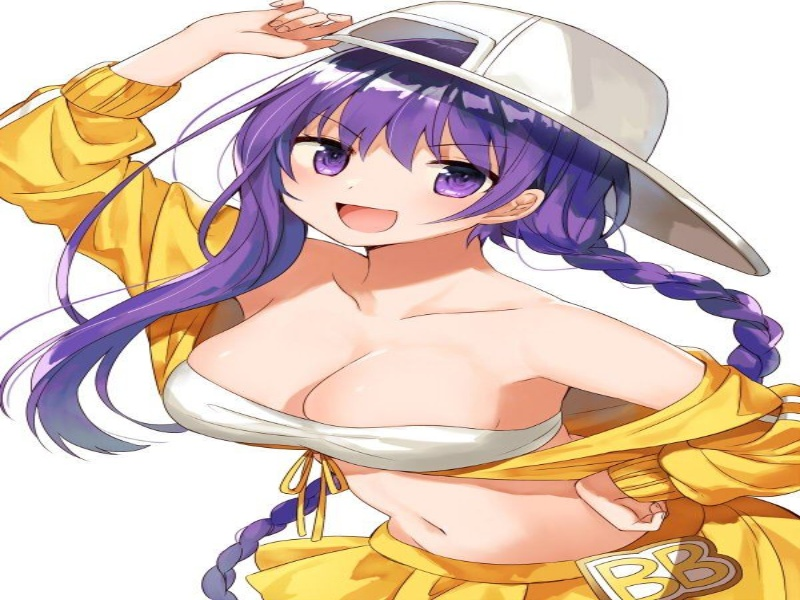dress: (227, 514, 800, 598)
person: (211, 51, 642, 278)
